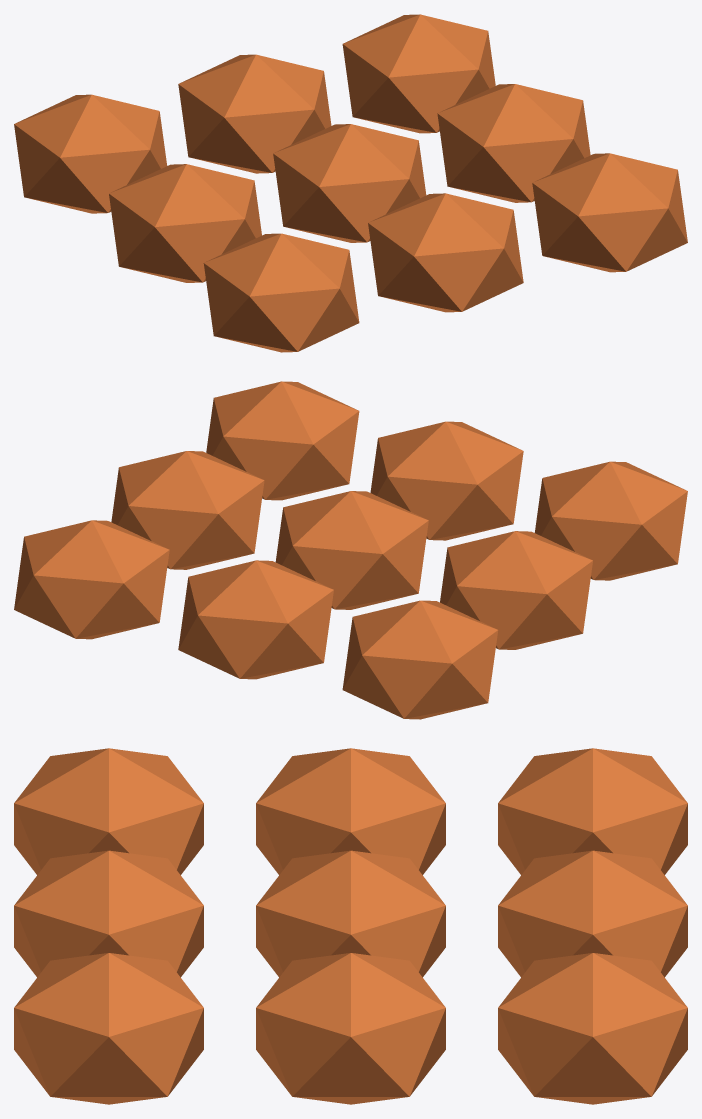
The model's file is crop_pumpkin.obj.
3 views of the same model, one above another, from view 1: azimuth 30°, elevation 25°; view 2: azimuth 150°, elevation 25°; view 3: azimuth 270°, elevation 25° (orthographic). The views are drawn at different scales.
Visible parts, largest first — view 1: part_6, part_7, part_8, part_1, part_2, part_0, part_5, part_4, part_3; view 2: part_0, part_1, part_2, part_7, part_8, part_6, part_5, part_4, part_3; view 3: part_2, part_8, part_5, part_1, part_4, part_7, part_0, part_3, part_6.
Boxes of the visible parts, left/top/right/bottom form: part_6: left=203, top=233, right=359, bottom=352; part_7: left=368, top=193, right=523, bottom=312; part_8: left=532, top=153, right=687, bottom=272; part_1: left=178, top=54, right=331, bottom=173; part_2: left=342, top=14, right=495, bottom=133; part_0: left=14, top=94, right=167, bottom=213; part_5: left=437, top=84, right=590, bottom=202; part_4: left=273, top=124, right=426, bottom=242; part_3: left=109, top=164, right=261, bottom=282; part_0: left=342, top=600, right=498, bottom=719; part_1: left=178, top=560, right=333, bottom=679; part_2: left=14, top=520, right=169, bottom=639; part_7: left=370, top=421, right=523, bottom=540; part_8: left=206, top=381, right=359, bottom=500; part_6: left=534, top=461, right=687, bottom=580; part_5: left=111, top=451, right=264, bottom=569; part_4: left=275, top=491, right=428, bottom=609; part_3: left=440, top=531, right=592, bottom=649; part_2: left=498, top=953, right=687, bottom=1104; part_8: left=14, top=953, right=203, bottom=1104; part_5: left=256, top=953, right=445, bottom=1104; part_1: left=498, top=850, right=687, bottom=977; part_4: left=256, top=850, right=445, bottom=977; part_7: left=14, top=850, right=203, bottom=977; part_0: left=498, top=748, right=687, bottom=874; part_3: left=256, top=748, right=445, bottom=874; part_6: left=14, top=748, right=203, bottom=874.
Bounding box in the file's own units: 0.7347 × 0.18 × 0.7242.
